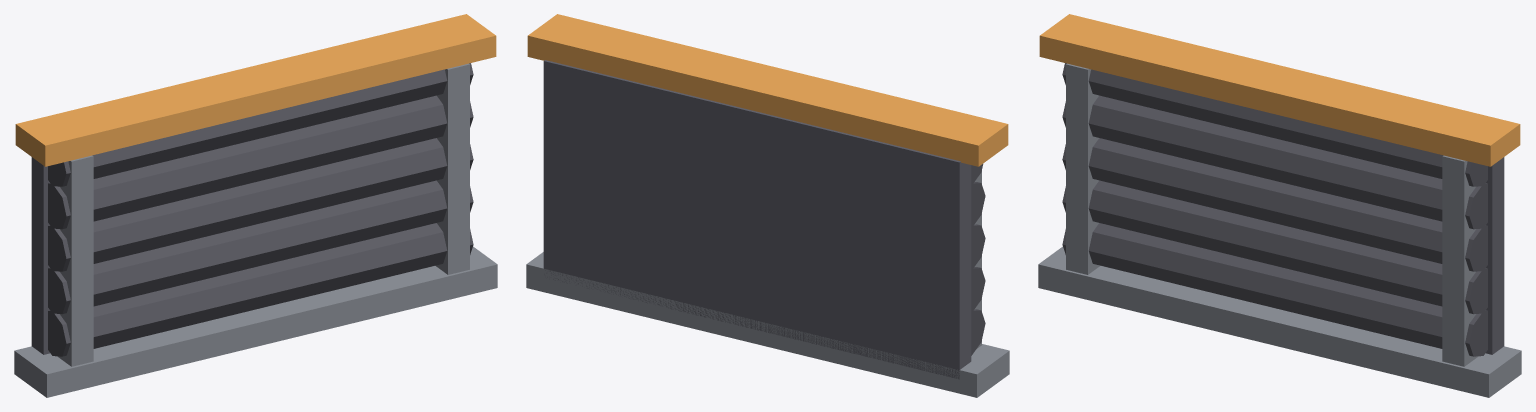
File: wall_soft.glb
The picture shows the model from 3 angles, left to right: view 1: azimuth 30°, elevation 25°; view 2: azimuth 150°, elevation 25°; view 3: azimuth 330°, elevation 25°; orthographic projection.
Parts seen in each view (by area): view 1: wall_soft; view 2: wall_soft; view 3: wall_soft.
Boxes of the visible parts, x1=… form: wall_soft: x1=14, y1=14, x2=497, y2=397; wall_soft: x1=526, y1=14, x2=1009, y2=397; wall_soft: x1=1038, y1=14, x2=1521, y2=397.
Bounding box in the file's own units: 2 × 1.06 × 0.25.
